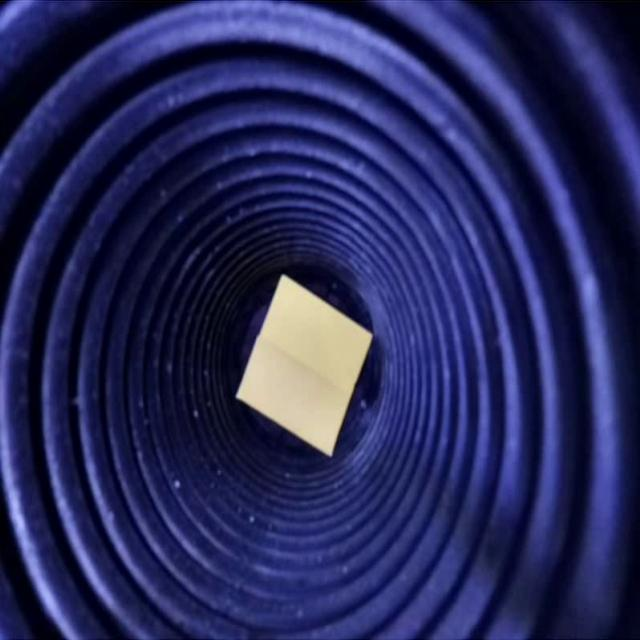obstacles: (235, 272, 374, 458)
